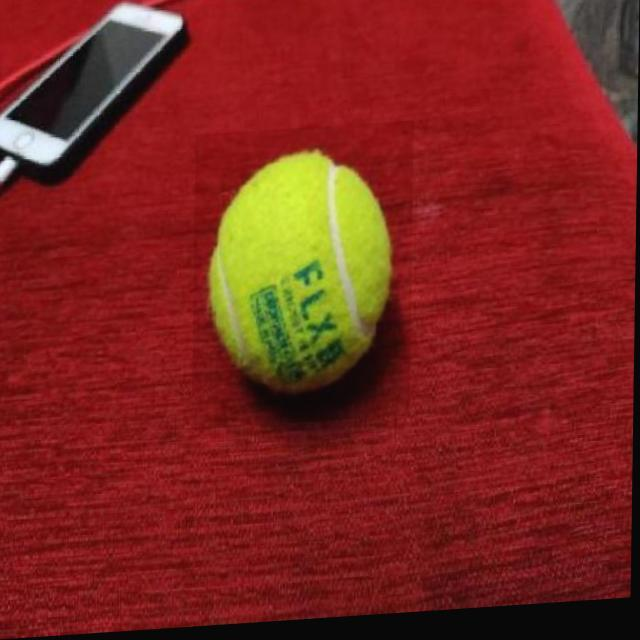-: (193, 126, 414, 432)
